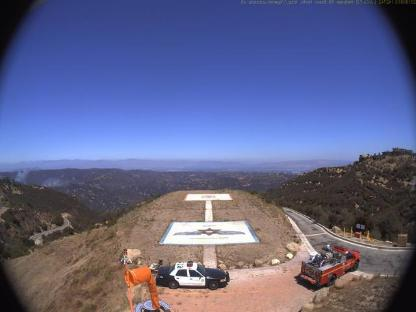smoke: (13, 164, 69, 188)
